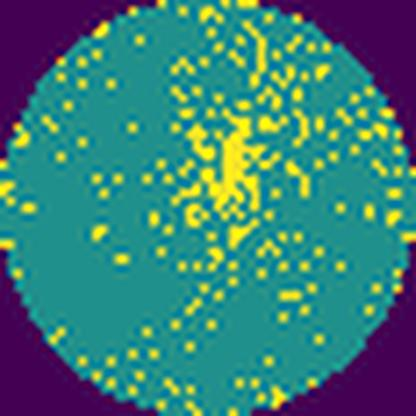Loc: (202, 109, 274, 216)
